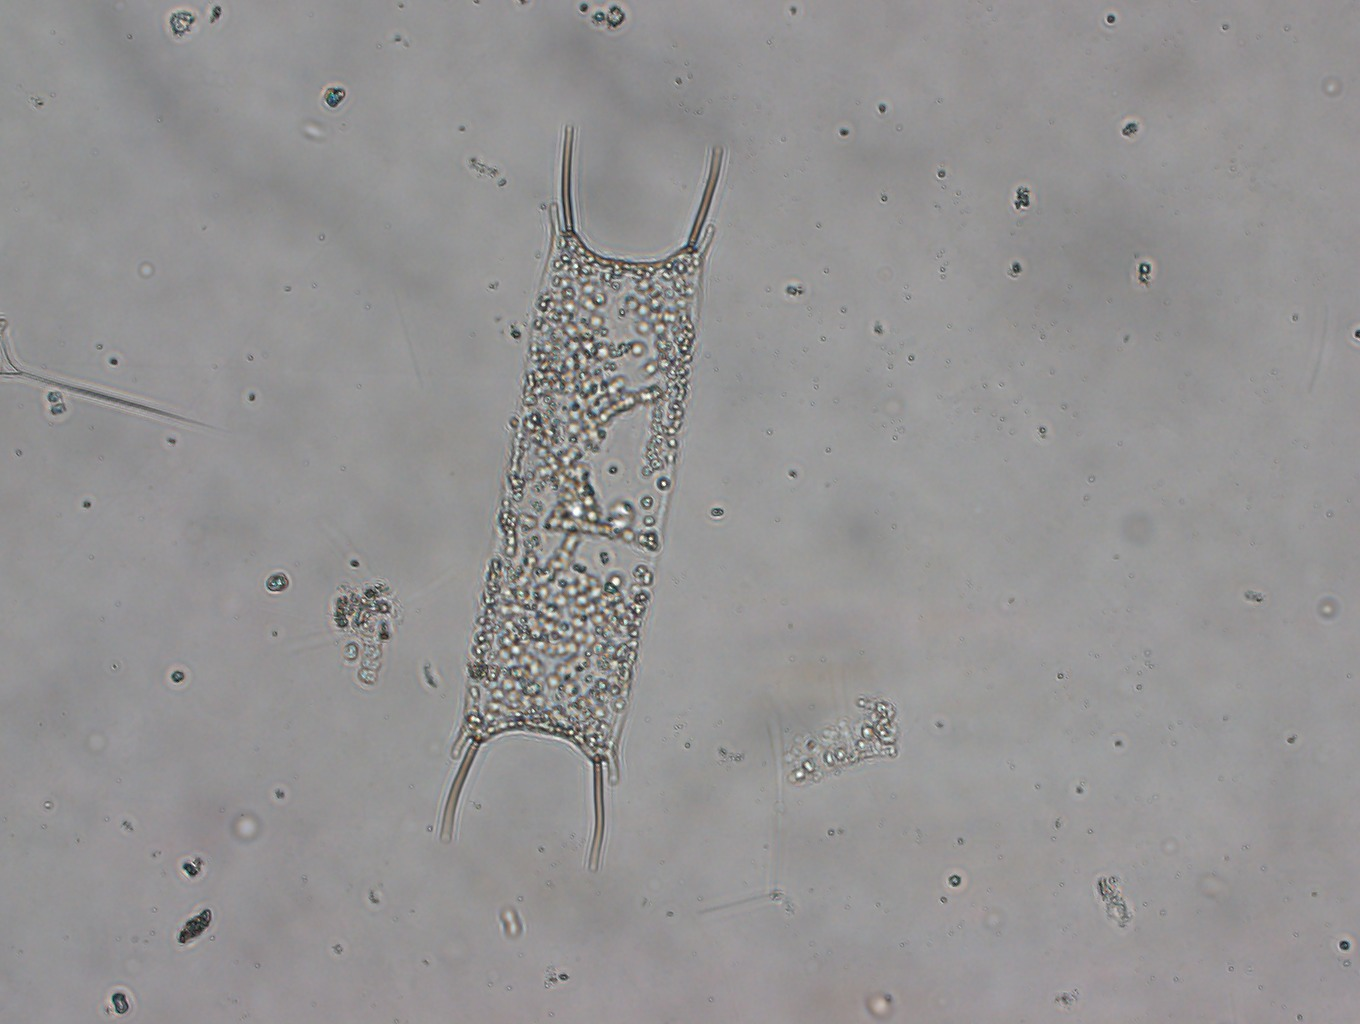biddulphia: (435, 100, 725, 874)
